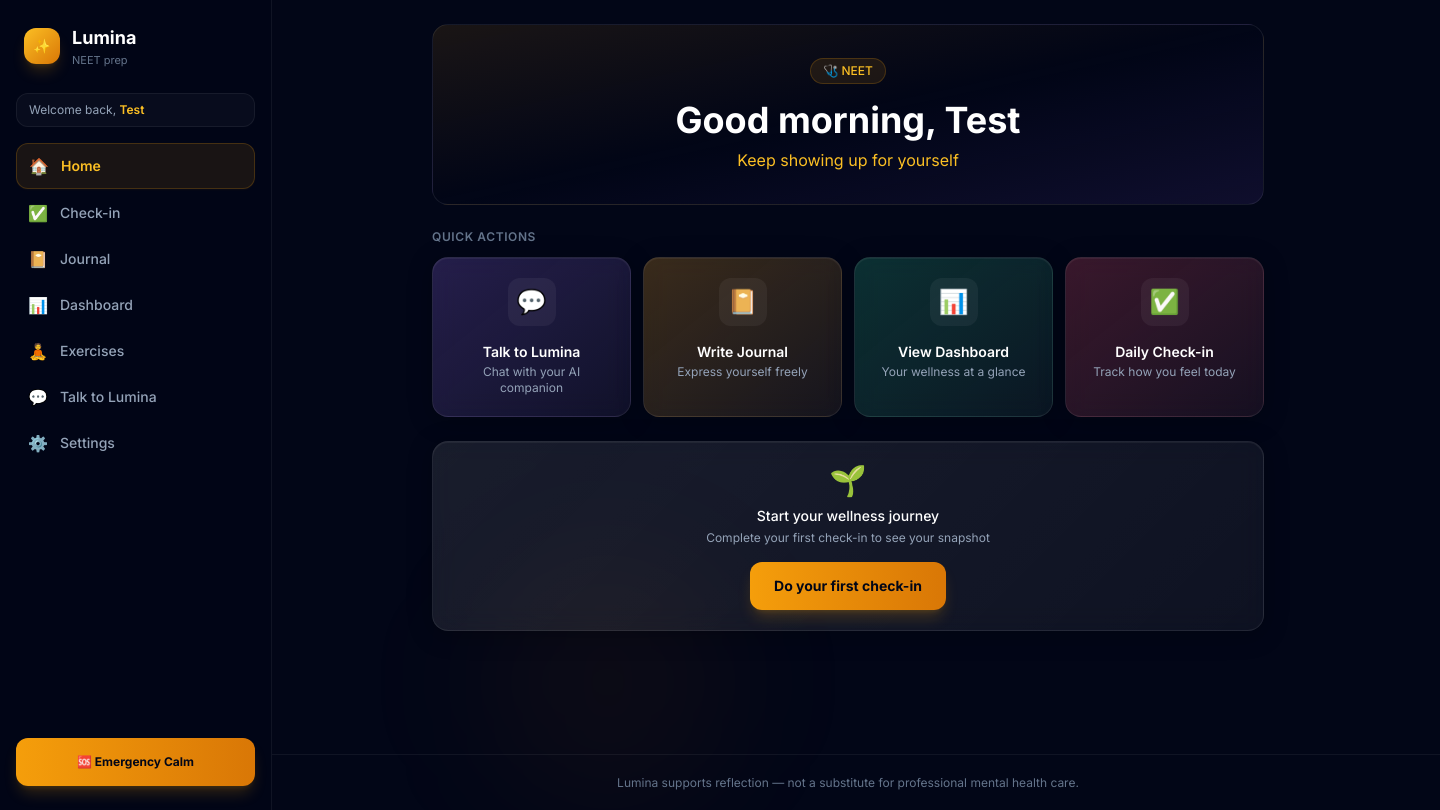
App › navigates between sidebar pages
Check: the heading "Good morning, Test" is shown, box [676,98,1020,142]
What coordinates should you click on to do the following:
click the button "📊 Dashboard"
I would click on:
 (136, 304)
Its box is [16,282,255,326].
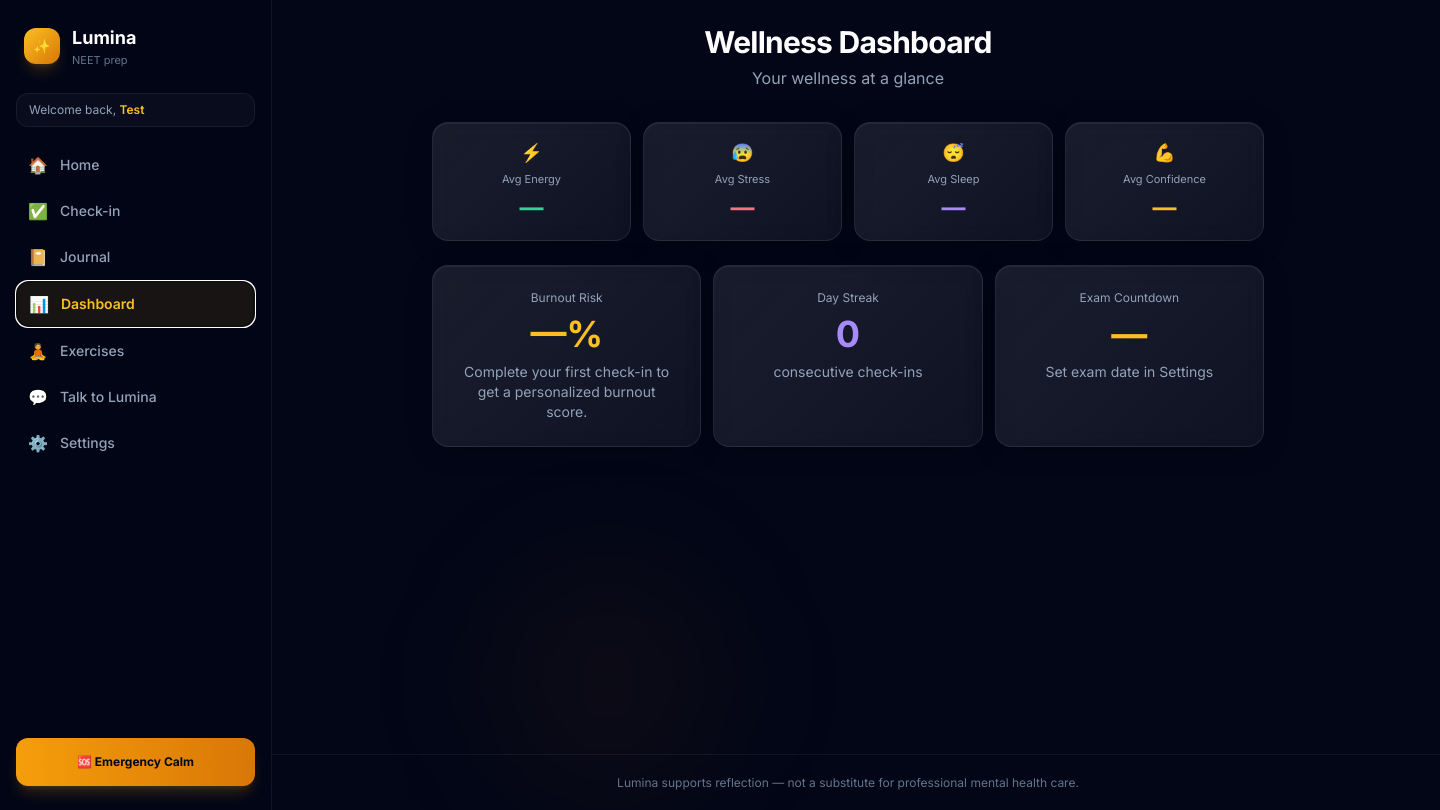
Check: the heading "Wellness Dashboard" is shown, box [704,24,992,60]
What coordinates should you click on to do the following:
click the button "✅ Check-in"
I would click on:
 (136, 210)
Its box is [16,188,255,232].
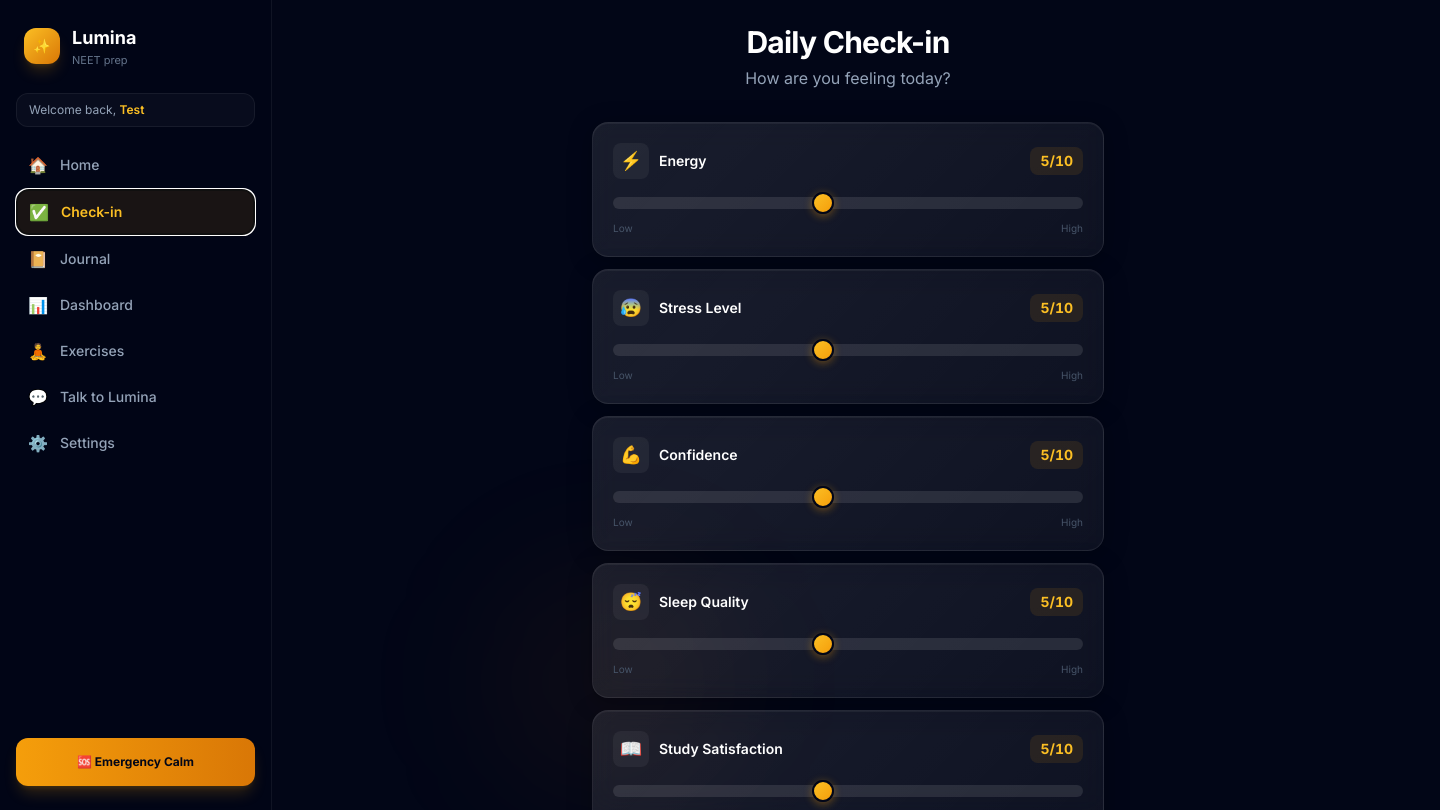
Check: the heading "Daily Check-in" is shown, box [746,24,950,60]
